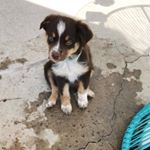puppy: (32, 12, 100, 119)
